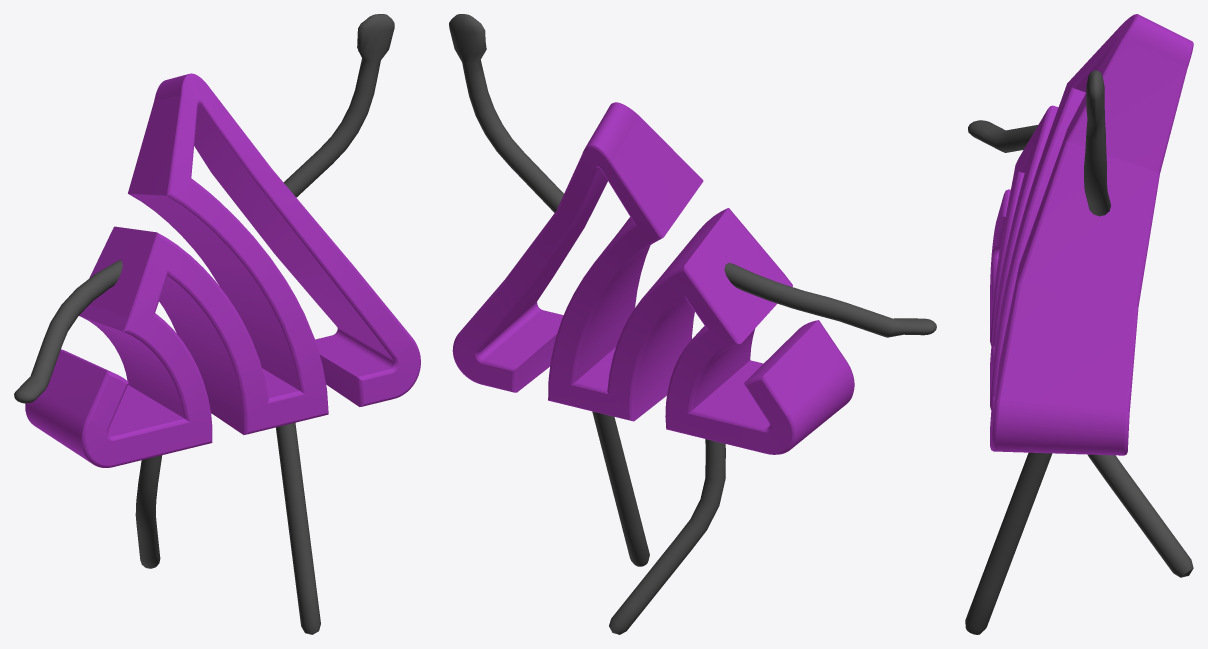
The model's file is GlyphWave.glb.
3 renders of one model, left to right at view 1: azimuth 30°, elevation 25°; view 2: azimuth 150°, elevation 25°; view 3: azimuth 270°, elevation 25°, orthographic. The views are drawn at different scales.
Parts seen in each view (by area): view 1: glyphBody, leftarm, leftleg, rightarm, rightleg; view 2: glyphBody, leftarm, rightleg, rightarm, leftleg; view 3: glyphBody, leftleg, rightleg, leftarm, rightarm.
Boxes of the visible parts, left/top/right/bottom form: glyphBody: left=25, top=73, right=420, bottom=467; leftarm: left=283, top=14, right=394, bottom=197; leftleg: left=276, top=422, right=320, bottom=634; rightarm: left=14, top=260, right=122, bottom=403; rightleg: left=135, top=455, right=162, bottom=568; glyphBody: left=452, top=102, right=854, bottom=454; leftarm: left=449, top=14, right=563, bottom=212; rightleg: left=609, top=439, right=725, bottom=634; rightarm: left=724, top=263, right=936, bottom=337; leftleg: left=592, top=411, right=649, bottom=566; glyphBody: left=990, top=14, right=1193, bottom=455; leftleg: left=965, top=452, right=1052, bottom=634; rightleg: left=1088, top=454, right=1193, bottom=577; leftarm: left=1084, top=70, right=1110, bottom=216; rightarm: left=968, top=120, right=1037, bottom=152.
Bounding box in the file's own units: 17.2 × 21.15 × 6.99.
